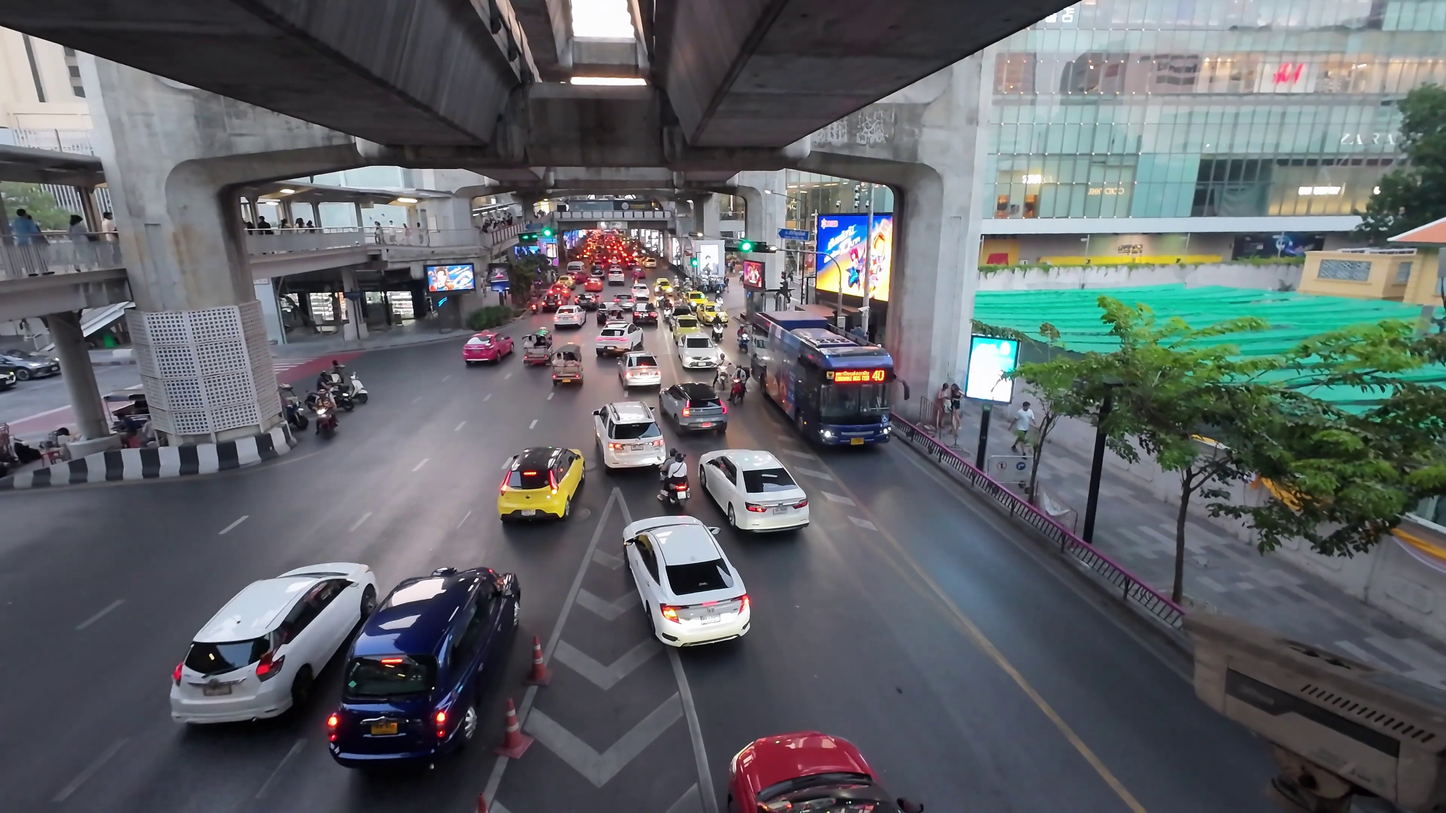license_plate: (375, 688, 475, 754), (221, 661, 327, 714), (654, 594, 720, 637), (790, 399, 859, 439), (792, 400, 860, 440), (775, 779, 873, 805), (725, 501, 783, 530), (520, 493, 563, 518), (610, 444, 648, 467), (673, 416, 709, 434), (475, 353, 501, 365), (630, 376, 650, 389), (529, 351, 546, 363), (558, 373, 574, 384)
no_seatbelt: (355, 597, 494, 699), (200, 585, 348, 669), (640, 534, 733, 601), (776, 342, 873, 405), (778, 344, 873, 406), (755, 743, 893, 783), (712, 461, 795, 505), (511, 457, 572, 496), (603, 411, 656, 448), (666, 391, 717, 419), (470, 336, 506, 355), (626, 359, 654, 378), (526, 335, 549, 353), (555, 358, 578, 375)
